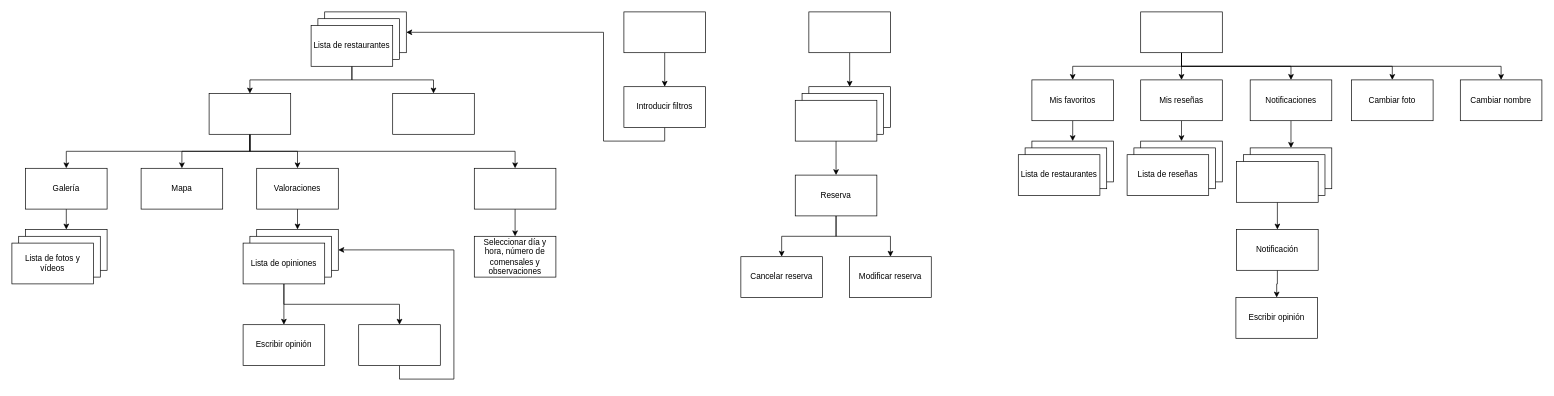
The diagram is 1554 pixels wide and 396 high, and some of its shapes have lost their labels. Each missing label, with the box of its shape:
Añadir a favoritos: (392, 93, 474, 134)
Buscar restaurantes: (623, 11, 706, 53)
Filtrar opiniones: (358, 324, 440, 366)
Hacer una reserva: (474, 168, 556, 209)
Lista de notificaciones: (1236, 161, 1318, 202)
Lista de reservas: (795, 100, 877, 141)
Mi perfil: (1140, 11, 1222, 53)
Reservas: (808, 11, 890, 53)
Restaurante: (208, 93, 291, 134)
